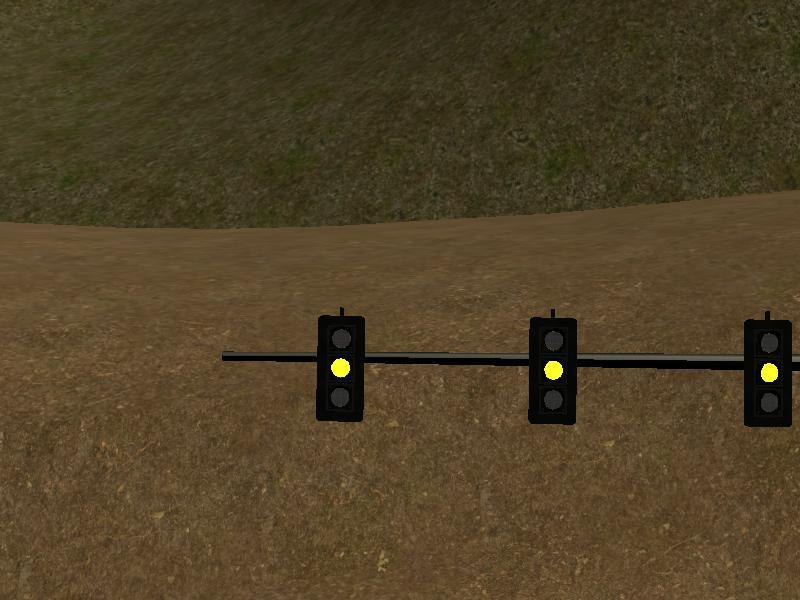Yellow: (743, 319, 793, 428), (527, 317, 577, 425), (316, 315, 364, 424)
